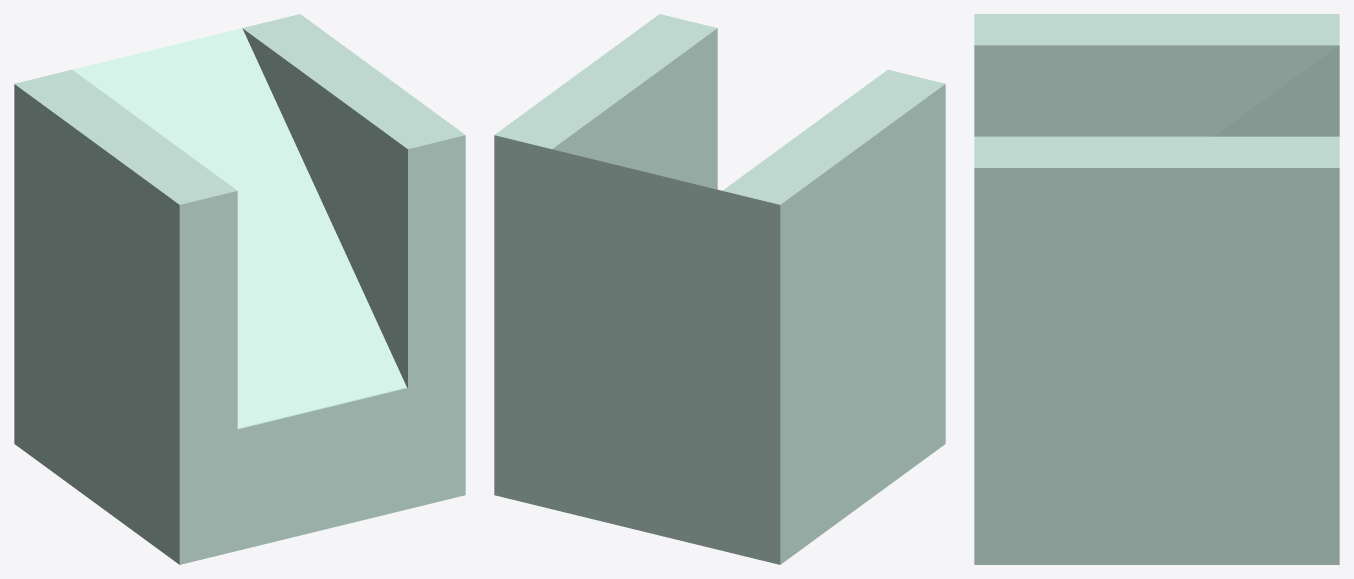
File: expected.gltf
The picture shows the model from 3 angles, left to right: view 1: azimuth 30°, elevation 25°; view 2: azimuth 150°, elevation 25°; view 3: azimuth 270°, elevation 25°; orthographic projection. The views are drawn at different scales.
Visible parts, largest first — view 1: Renderer Node; view 2: Renderer Node; view 3: Renderer Node.
Boxes of the visible parts, x1=… form: Renderer Node: x1=14, y1=14, x2=465, y2=564; Renderer Node: x1=494, y1=14, x2=945, y2=564; Renderer Node: x1=974, y1=14, x2=1339, y2=564.
Size of the model in its own units: 0.6237 by 0.75 by 0.625.
